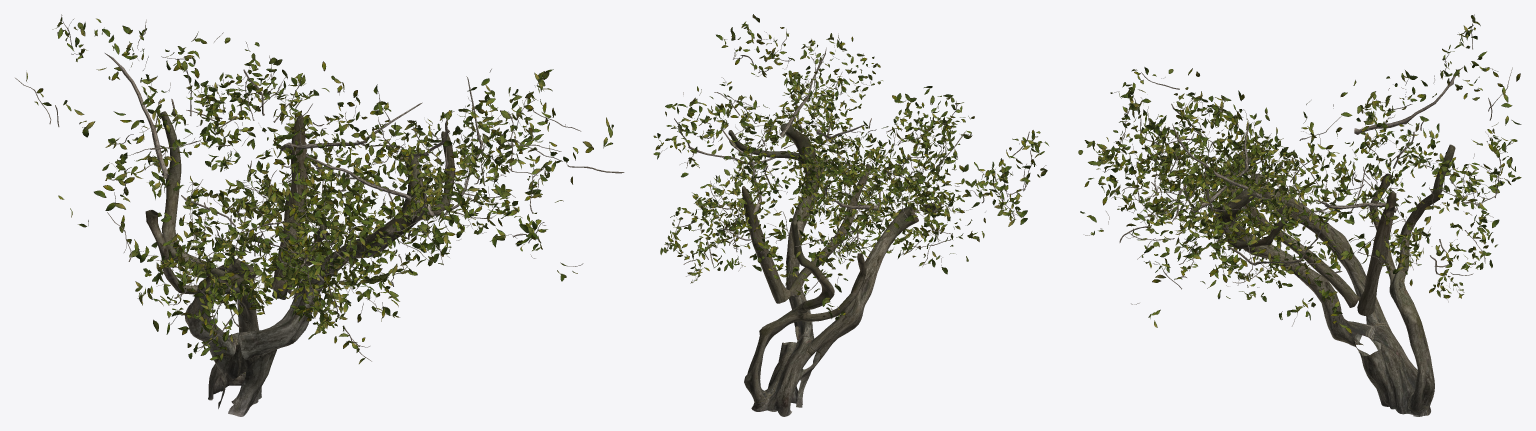
Rendered from island_tree_02.glb.
3 renders of one model, left to right at view 1: azimuth 30°, elevation 25°; view 2: azimuth 150°, elevation 25°; view 3: azimuth 270°, elevation 25°, orthographic. The views are drawn at different scales.
Parts seen in each view (by area): view 1: island_tree_02_LOD0; view 2: island_tree_02_LOD0; view 3: island_tree_02_LOD0.
Boxes of the visible parts, x1,y1,x2,y2 form: island_tree_02_LOD0: [15, 14, 624, 416]; island_tree_02_LOD0: [653, 14, 1048, 416]; island_tree_02_LOD0: [1078, 14, 1521, 416].
Bounding box in the file's own units: 3.85 × 3.34 × 3.97.
3 materials, 3 textured.
